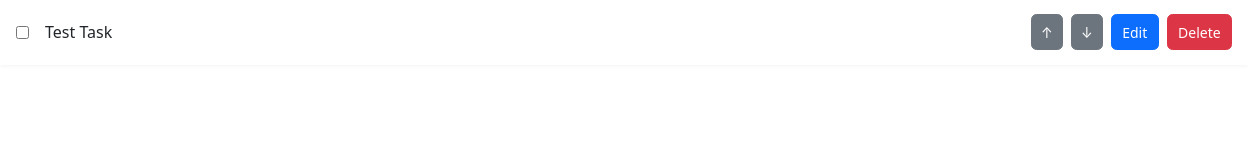
Test: TaskListElement component › discards the abandoned draft when edit mode is re-entered
The width and height of the screenshot is (1248, 160).
Click the button with test id "edit-button" at [1135, 32], box [1111,14,1159,50]
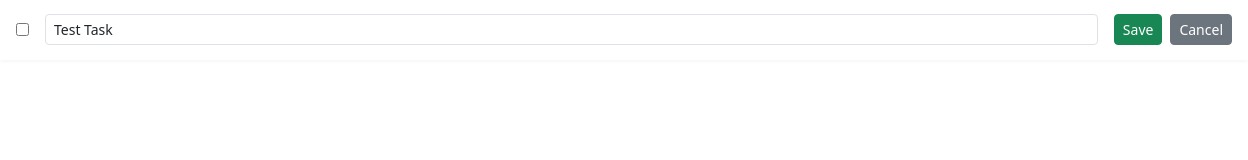
Replace the text in the field with test id "edit-input" with "Abandoned Draft" at [571, 30], box [45,14,1098,45]
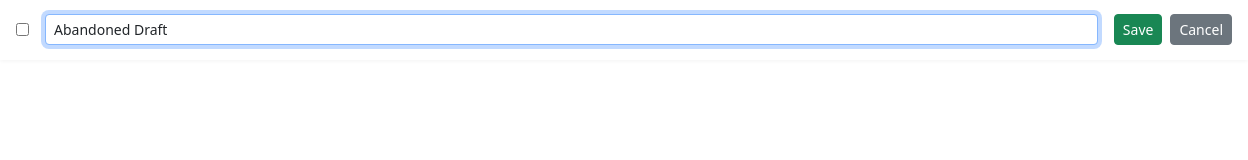
Click the button with test id "cancel-button" at [1201, 30], box [1170,14,1232,45]
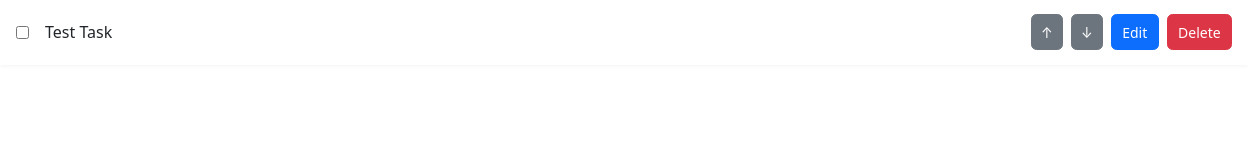
Click the button with test id "edit-button" at [1135, 32], box [1111,14,1159,50]
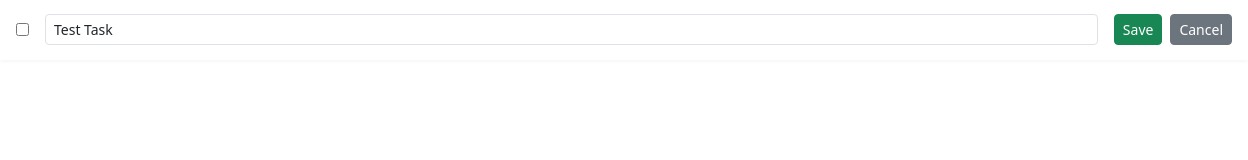
Expected: the field with test id "edit-input" holds "Test Task", [45,14,1098,45]
